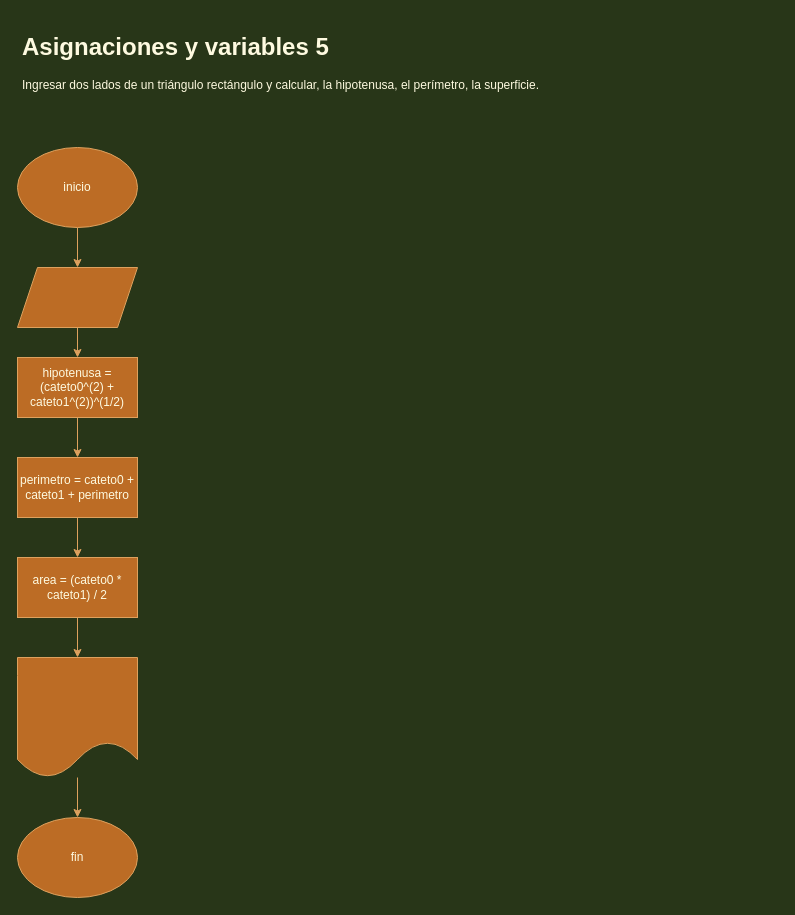
Image size: 795x915. Some labels were removed from this diagram. Each missing label, with the centre of its shape:
"cateto0 cateto1" belongs at (x=77, y=297).
"Hipotenusa = (hipotenusa) Perímetro = (perimetro) Superficie = (superficie)" belongs at (x=77, y=717).
